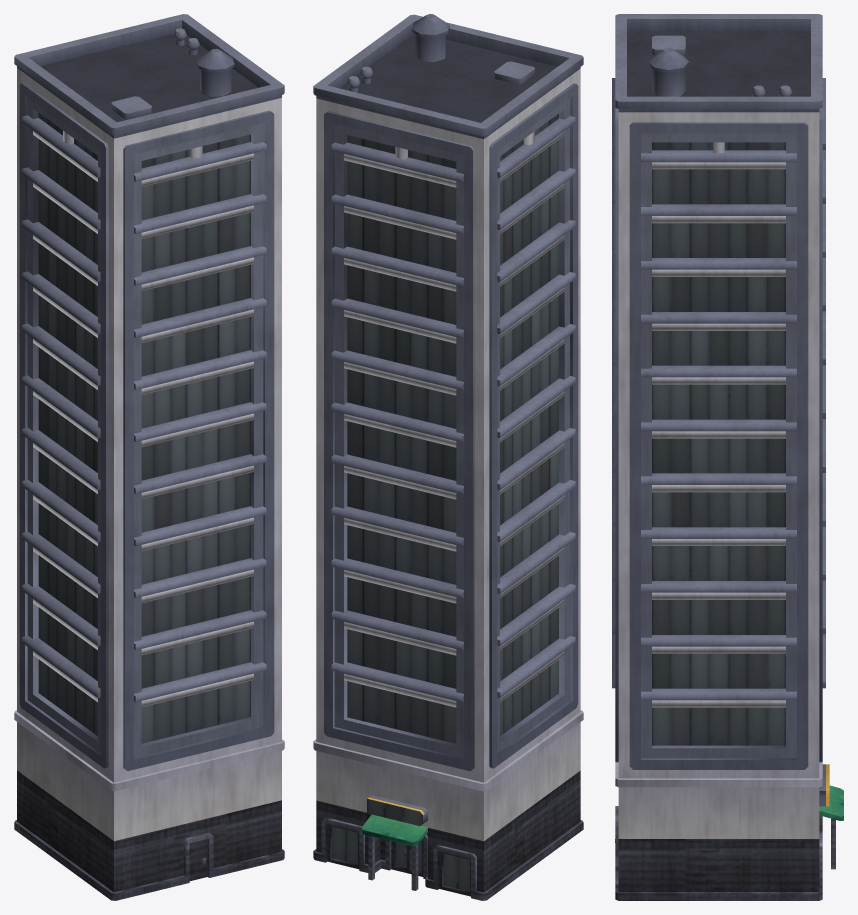
Rendered from building-skyscraper-d-white.glb.
3 renders of one model, left to right at view 1: azimuth 30°, elevation 25°; view 2: azimuth 150°, elevation 25°; view 3: azimuth 270°, elevation 25°, orthographic. The views are drawn at different scales.
Parts seen in each view (by area): view 1: building-skyscraper-d; view 2: building-skyscraper-d; view 3: building-skyscraper-d.
Boxes of the visible parts, x1,y1,x2,y2 form: building-skyscraper-d: (14, 14, 284, 900); building-skyscraper-d: (313, 14, 583, 900); building-skyscraper-d: (612, 14, 843, 900).
Bounding box in the file's own units: 1.28 × 5.47 × 1.39.
Materials: 1 (1 with a texture image).
